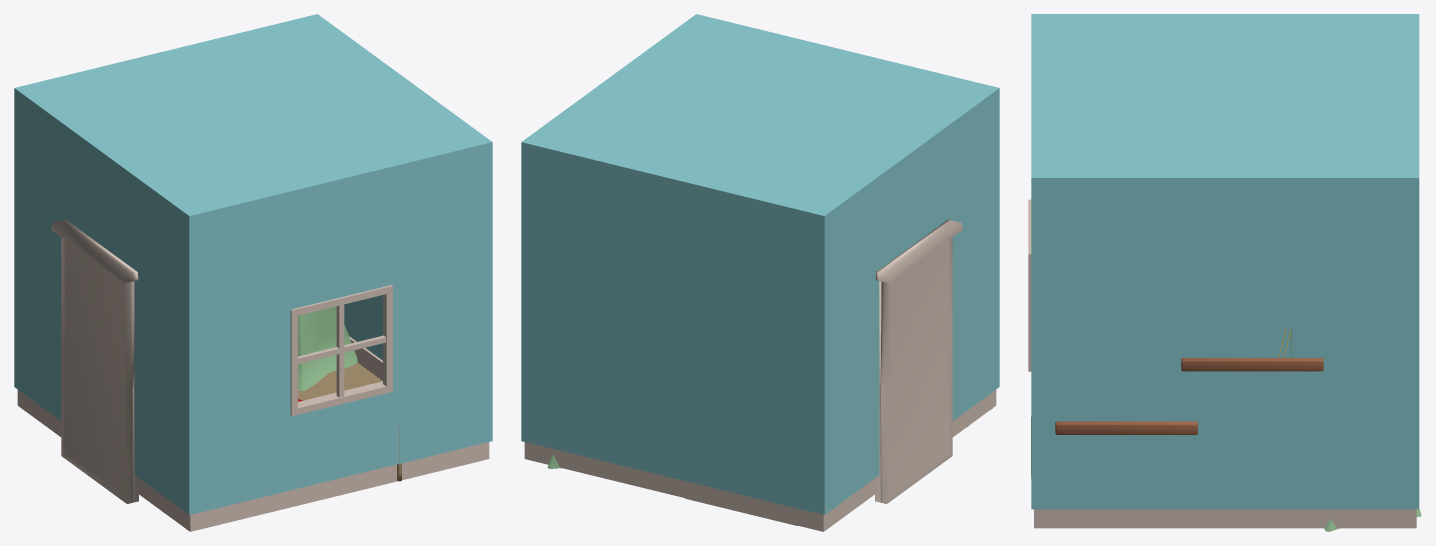
File: Chamber.fbx
3 views of the same model, side by side, from view 1: azimuth 30°, elevation 25°; view 2: azimuth 150°, elevation 25°; view 3: azimuth 270°, elevation 25° (orthographic). The views are drawn at different scales.
Visible parts, largest first — view 1: Wall, Door, Window, Tipis; view 2: Wall, Door; view 3: Wall, Shelf 2, Shelf 1, Window.
Part boxes in pixels (left/top/right/bottom): Wall: left=14, top=14, right=492, bottom=531; Door: left=51, top=219, right=138, bottom=503; Window: left=290, top=285, right=392, bottom=416; Tipis: left=298, top=306, right=357, bottom=390; Wall: left=521, top=14, right=999, bottom=531; Door: left=875, top=219, right=962, bottom=503; Wall: left=1031, top=14, right=1419, bottom=528; Shelf 2: left=1181, top=358, right=1323, bottom=371; Shelf 1: left=1055, top=421, right=1197, bottom=434; Window: left=1028, top=199, right=1031, bottom=371.
Size of the model in its own units: 6368 by 6168 by 6080.
